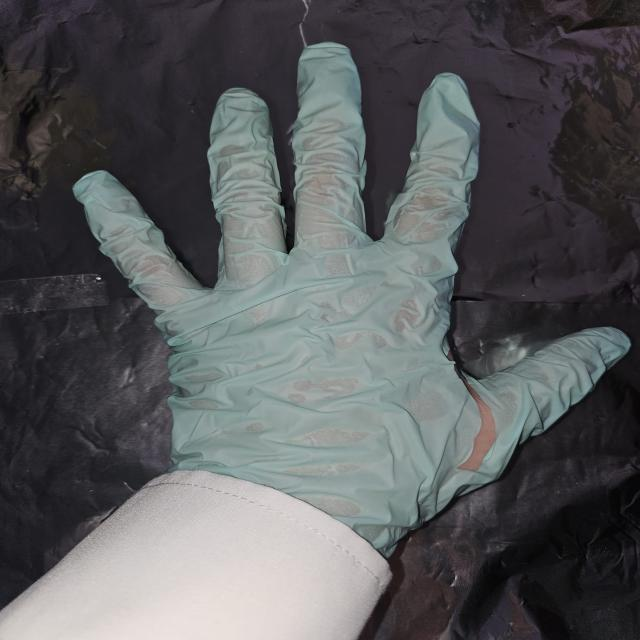gloves_damaged: (70, 41, 635, 549)
